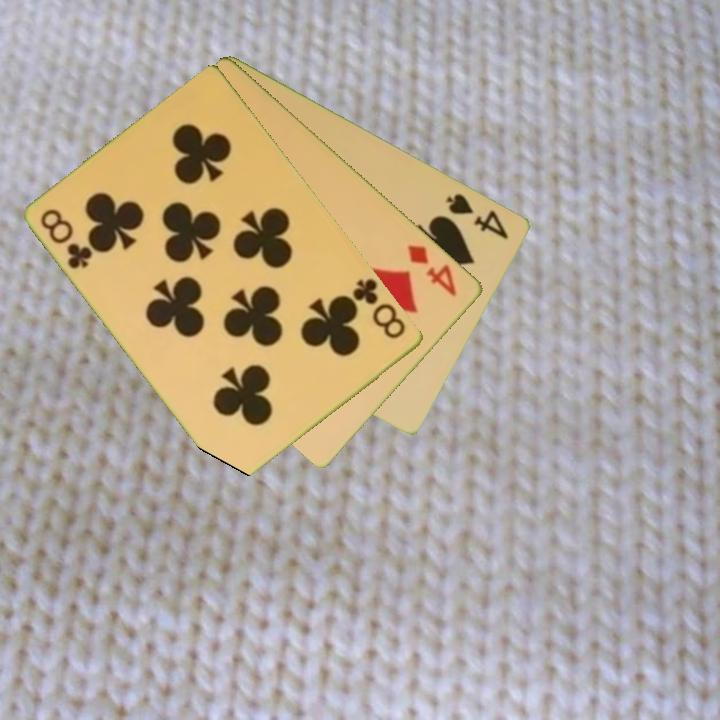4d: (405, 240, 461, 300)
4s: (443, 189, 512, 242)
8c: (346, 275, 410, 342), (37, 205, 96, 273)
